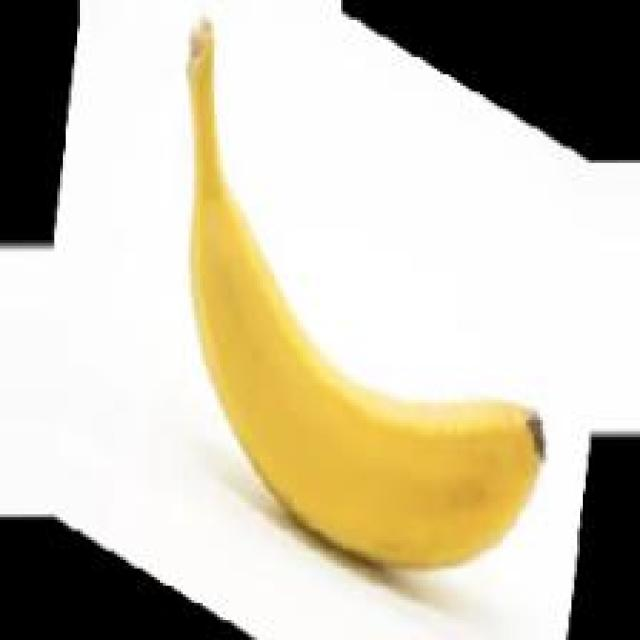banana: (150, 8, 565, 588)
